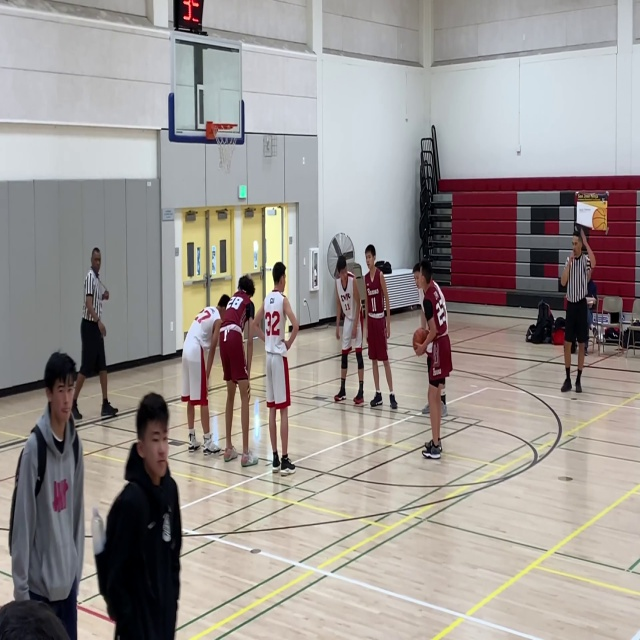Basketball: (412, 328, 433, 355)
